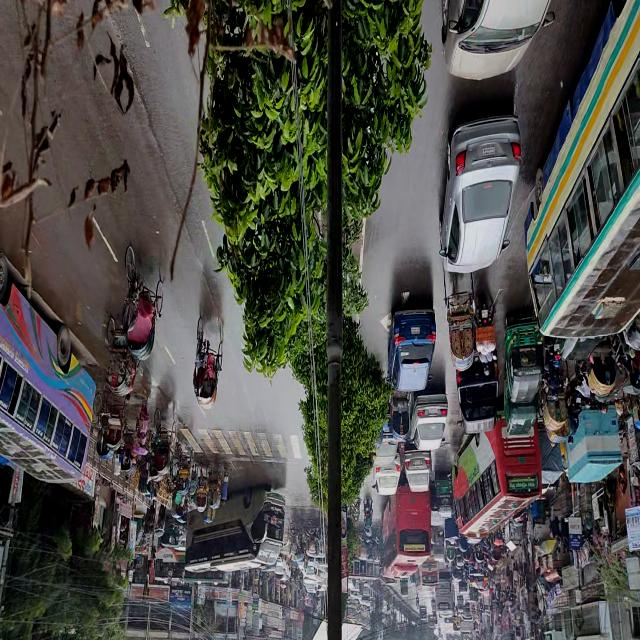blue: (386, 302, 437, 392)
